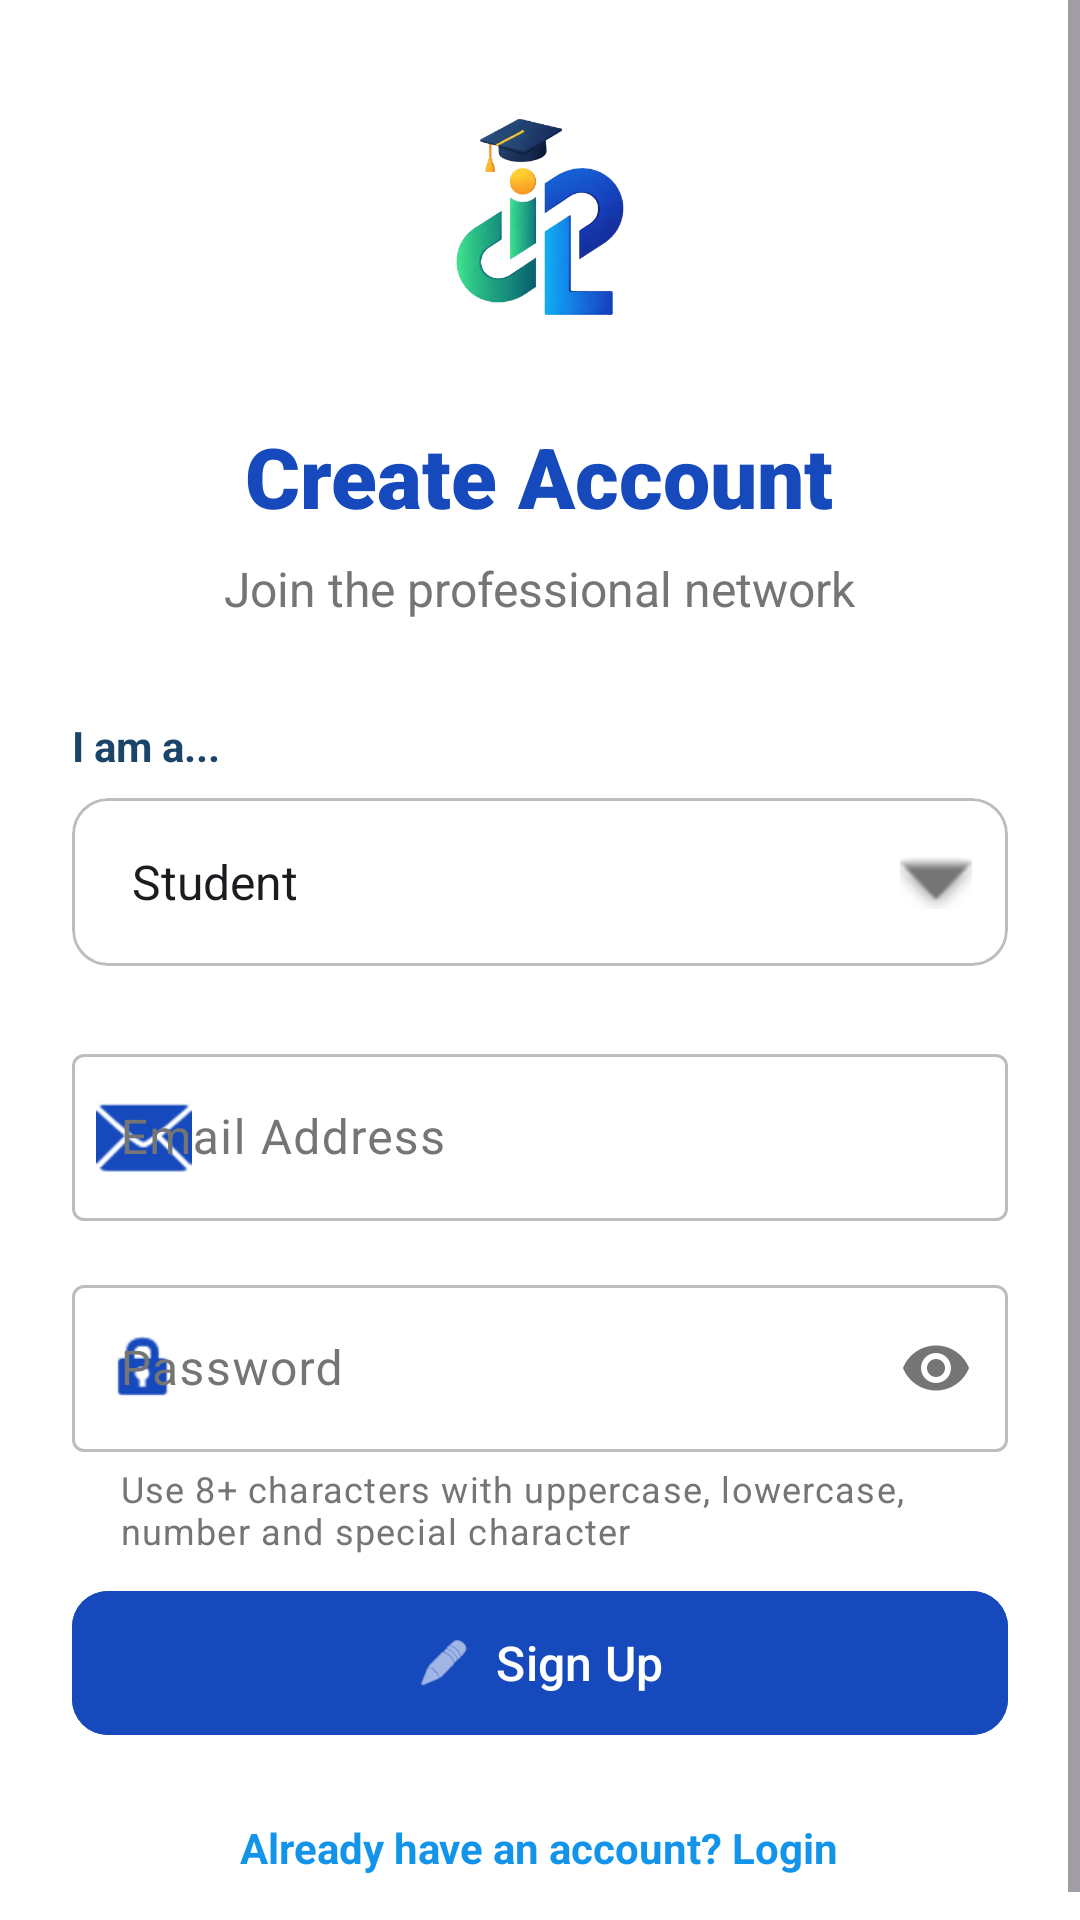

Named icons in this screenshot (1080 × 1920) and their bounding boxes, (x1, y1, x2, y2):
arrow down float: (900, 859, 972, 903)
